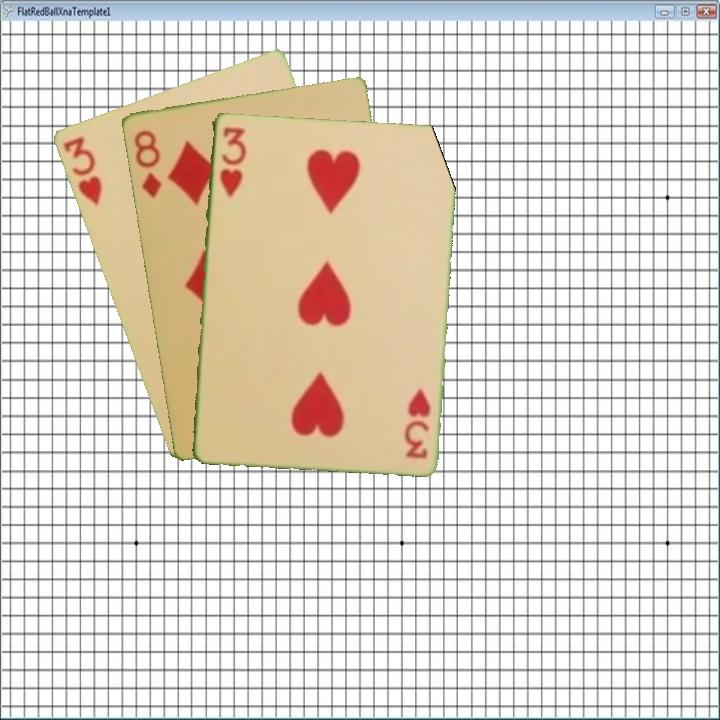3h: (59, 132, 104, 208), (401, 384, 433, 462), (216, 123, 248, 200)
8d: (130, 126, 164, 201)
